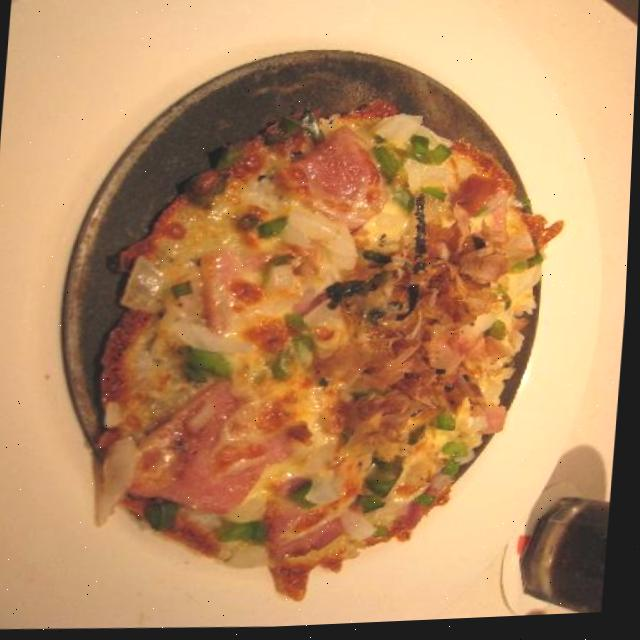汉堡快餐: (40, 30, 560, 604)
